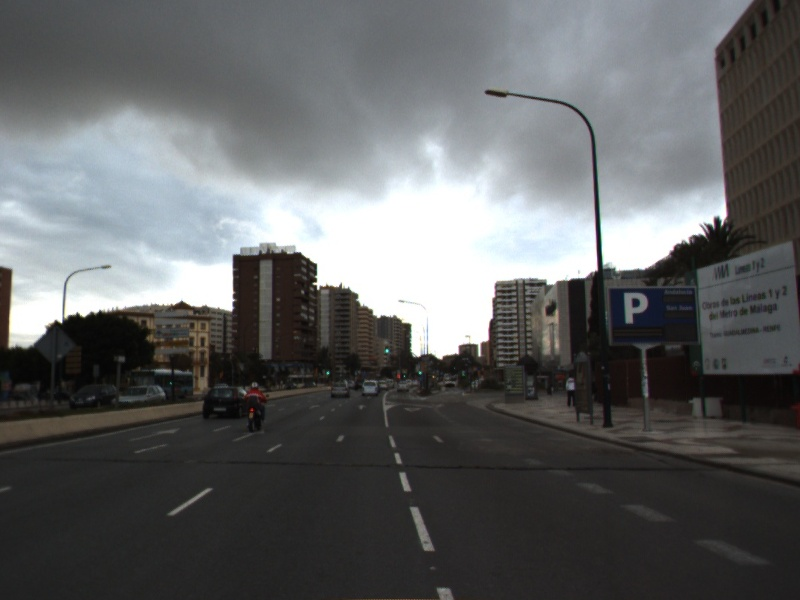STRAIGHT: (126, 426, 182, 443), (229, 427, 267, 443), (354, 403, 368, 411)
